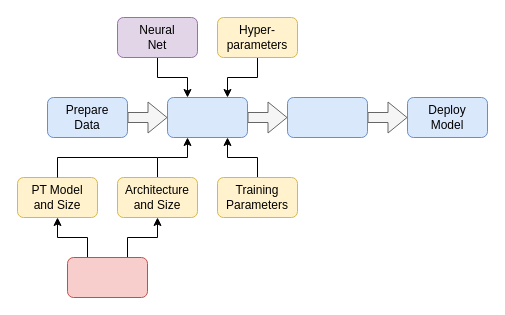
Some shapes in this 505 by 315 pixel diagram are drawn without their labels. Here are the shapes that lost their labels. From the top down, the box of each, then its label:
(166, 96, 248, 138): Train Model
(286, 96, 368, 138): Evaluate Model
(66, 256, 148, 298): Pretrained?
